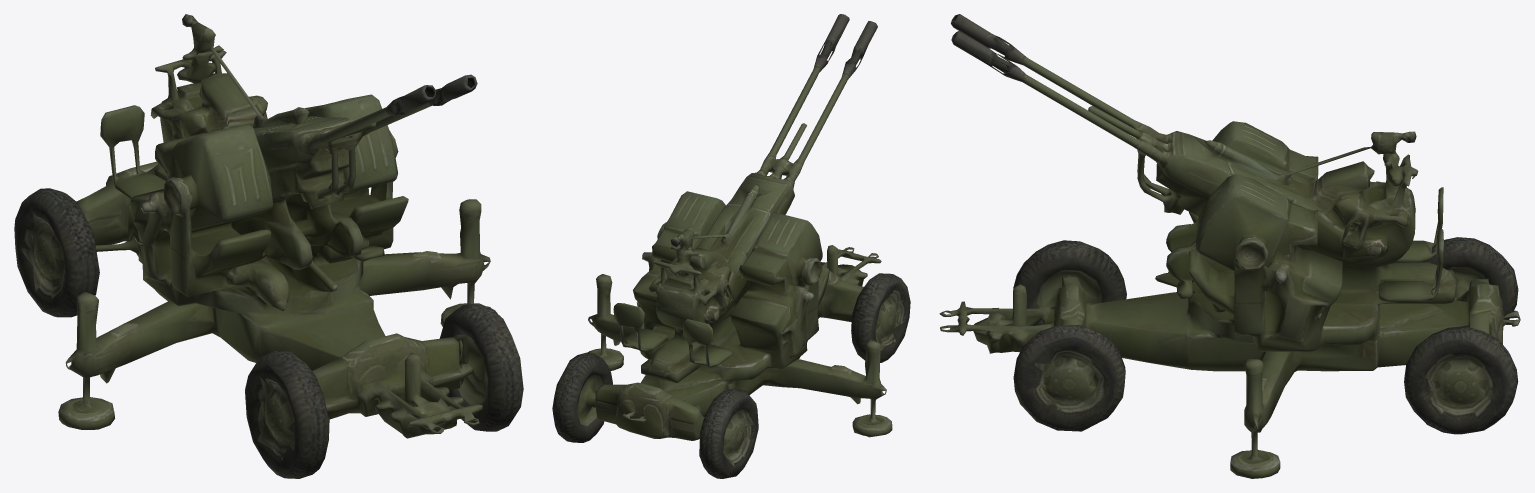
File: bt_caoxa37.glb
The picture shows the model from 3 angles, left to right: view 1: azimuth 30°, elevation 25°; view 2: azimuth 150°, elevation 25°; view 3: azimuth 270°, elevation 25°; orthographic projection. The views are drawn at different scales.
Visible parts, largest first — view 1: tripo_node_de9684f8; view 2: tripo_node_de9684f8; view 3: tripo_node_de9684f8.
Boxes of the visible parts, x1,y1,x2,y2 form: tripo_node_de9684f8: [14, 14, 523, 478]; tripo_node_de9684f8: [552, 14, 910, 478]; tripo_node_de9684f8: [939, 14, 1520, 478].
Bounding box in the file's own units: 1.8 × 1.67 × 2.39.
1 material, 1 textured.
